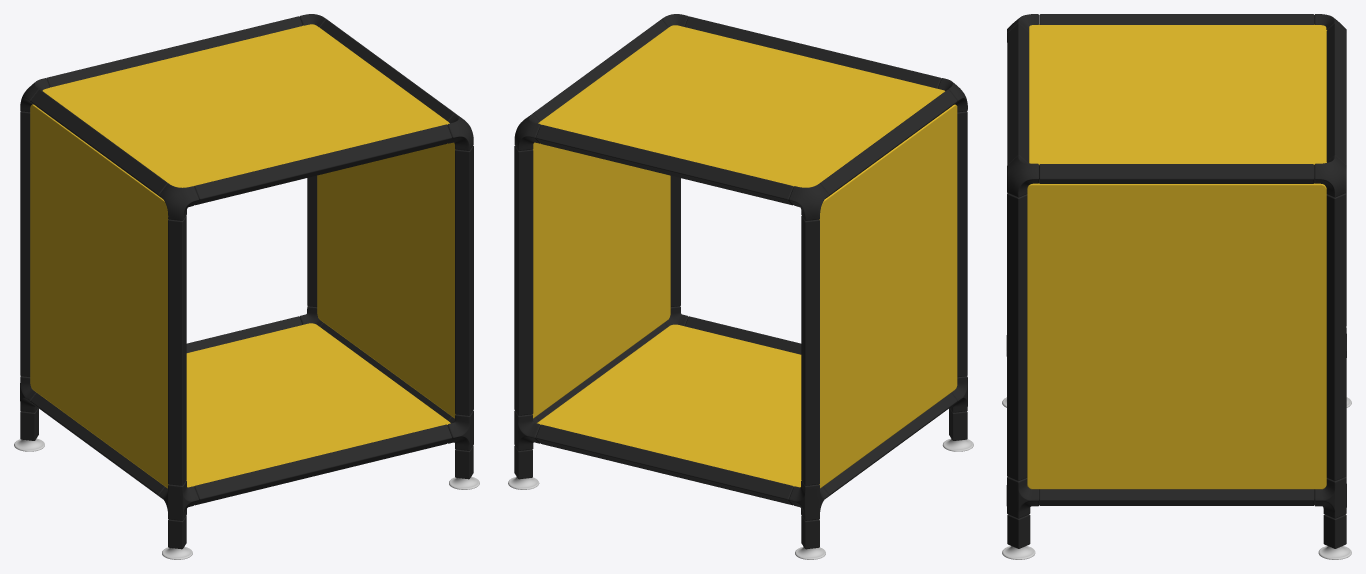
The picture shows the model from 3 angles, left to right: view 1: azimuth 30°, elevation 25°; view 2: azimuth 150°, elevation 25°; view 3: azimuth 270°, elevation 25°; orthographic projection. The views are drawn at different scales.
Visible parts, largest first — view 1: 374x329x374; view 2: 374x329x374; view 3: 374x329x374.
Boxes of the visible parts, box(x1,y1,x2,y2) form: 374x329x374: box(14, 14, 479, 559); 374x329x374: box(508, 14, 973, 559); 374x329x374: box(1002, 14, 1351, 559).
Size of the model in its own units: 0.4639 by 0.5133 by 0.4182.
